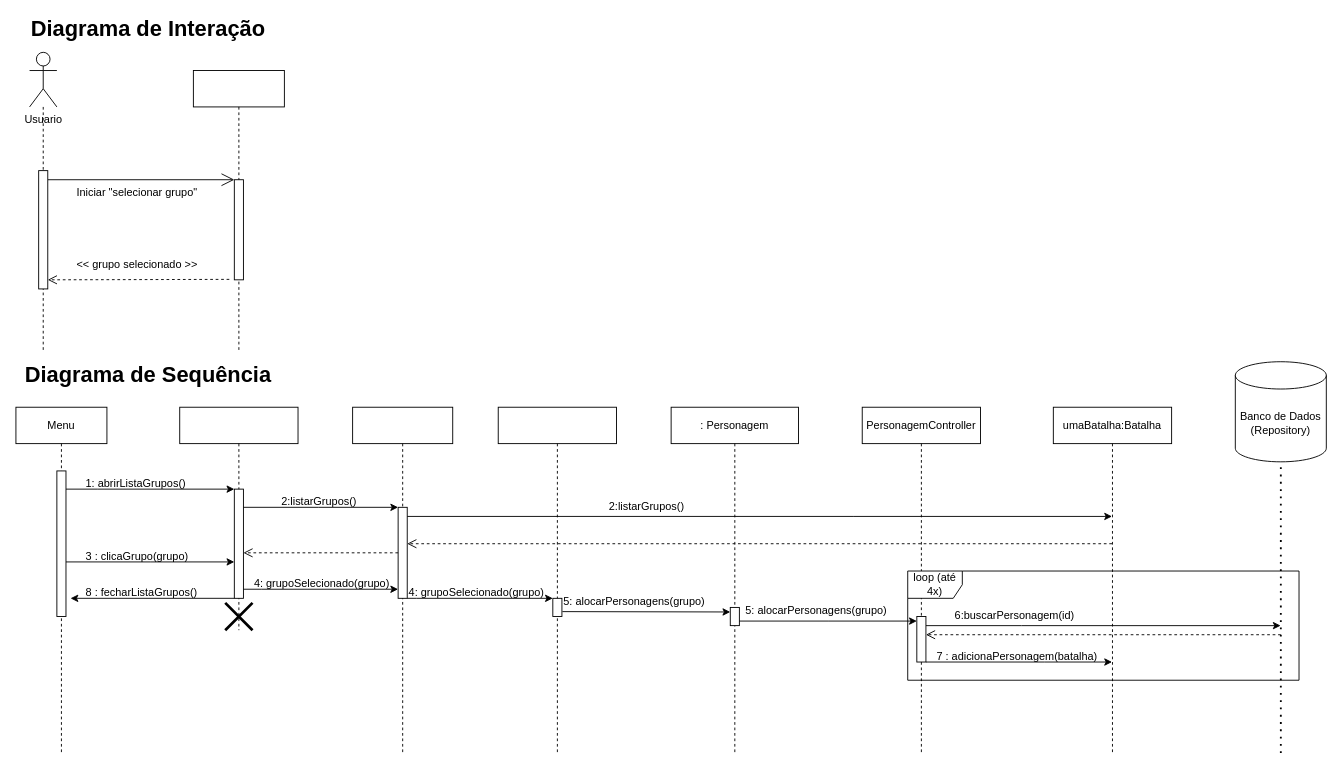
This 1342x770 diagram has some shape labels left out. The shapes that lost their labels are listed below. From the top down, each one's box as (x1, y1, x2, y2) in pixels, then its label:
(192, 70, 284, 353): Sistema
(179, 406, 298, 630): JanelaSelecaoGrupo
(352, 406, 453, 753): : GrupoController
(497, 406, 617, 753): : Grupo
